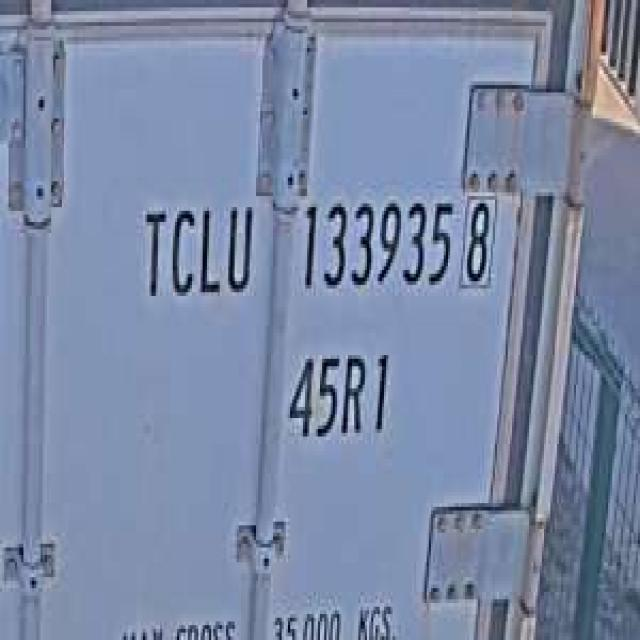dv: (459, 185, 499, 292)
owner: (137, 189, 256, 307)
serial: (292, 182, 454, 304)
size: (282, 337, 396, 448)
